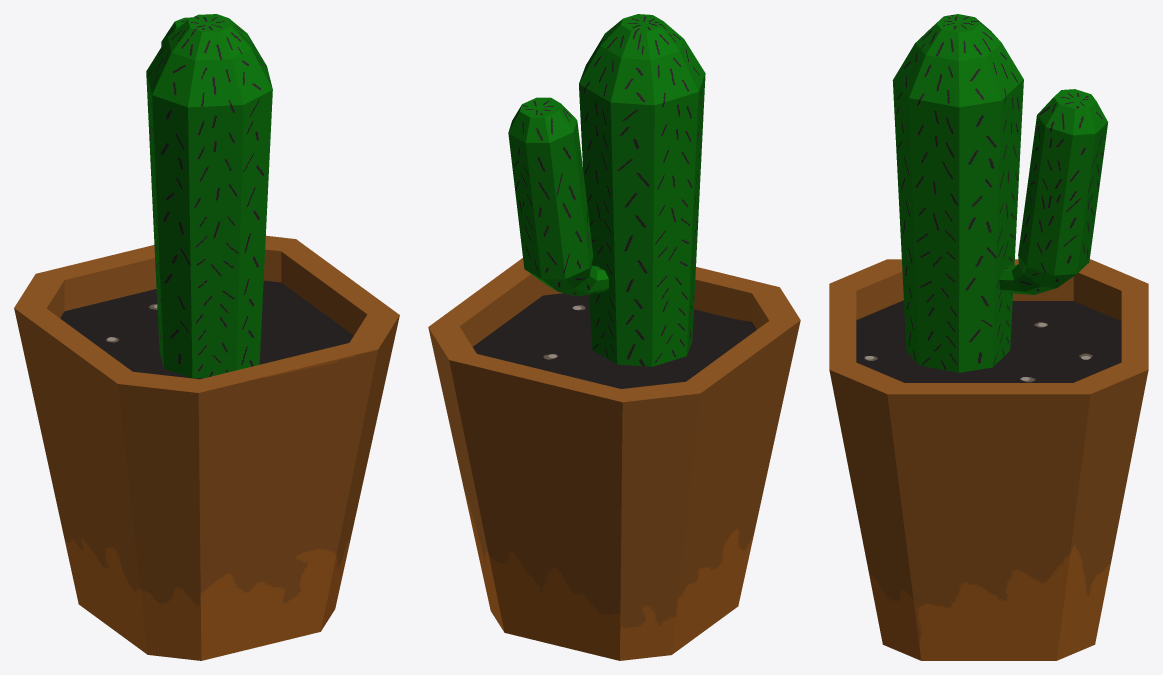
The model's file is plantPot.obj.
3 views of the same model, side by side, from view 1: azimuth 30°, elevation 25°; view 2: azimuth 150°, elevation 25°; view 3: azimuth 270°, elevation 25° (orthographic). The views are drawn at different scales.
Parts seen in each view (by area): view 1: Cube, Cube.001; view 2: Cube, Cube.001, Cube.002; view 3: Cube, Cube.001, Cube.002.
Part boxes in pixels (box(x1,y1,x2,y2)): Cube: box(14, 235, 399, 660); Cube.001: box(146, 14, 272, 378); Cube: box(428, 258, 800, 660); Cube.001: box(579, 14, 705, 366); Cube.002: box(508, 97, 608, 296); Cube: box(829, 259, 1148, 660); Cube.001: box(892, 14, 1023, 372); Cube.002: box(999, 89, 1108, 294).
Size of the model in its own units: 0.4517 by 0.9154 by 0.4517.
3 materials, 3 textured.
